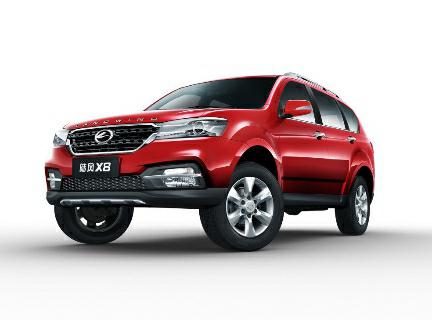陆风-X8: (34, 60, 384, 260)
